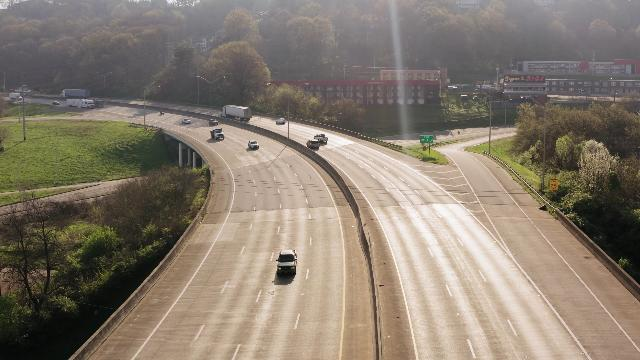car: (276, 247, 300, 281), (306, 138, 321, 151), (247, 138, 259, 151), (276, 116, 288, 127), (209, 118, 218, 125), (181, 118, 190, 125), (51, 100, 61, 106)
motorcycle: (159, 110, 164, 115)
pickup-truck: (314, 132, 329, 145)
truck: (220, 103, 253, 122), (65, 97, 95, 110), (58, 88, 91, 98), (210, 128, 227, 141), (9, 87, 34, 94), (92, 96, 104, 108), (9, 92, 22, 101)
